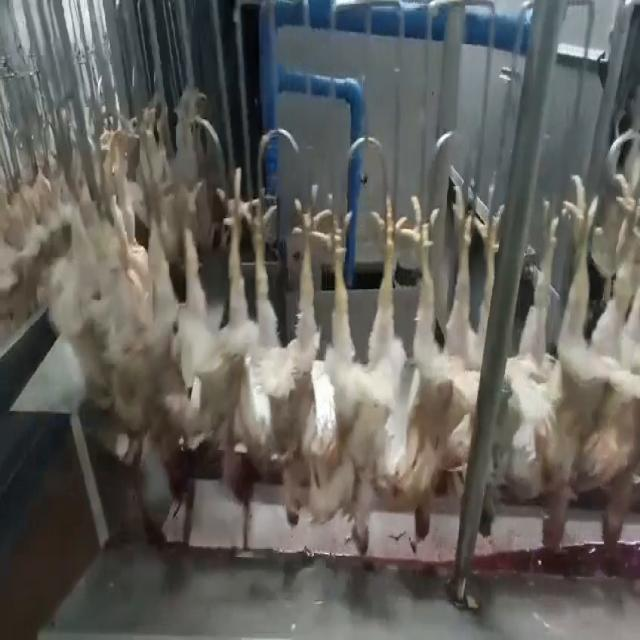chicken: (304, 183, 421, 554), (400, 186, 491, 545), (505, 173, 590, 551), (246, 186, 328, 532), (171, 154, 249, 493), (582, 175, 640, 562)
